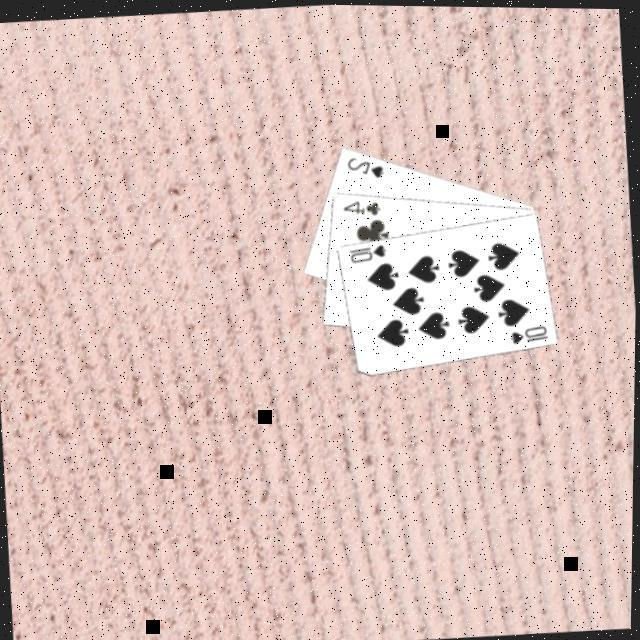10S: (343, 240, 388, 266), (504, 321, 549, 346)
2S: (341, 150, 385, 182)
4C: (338, 194, 382, 220)
